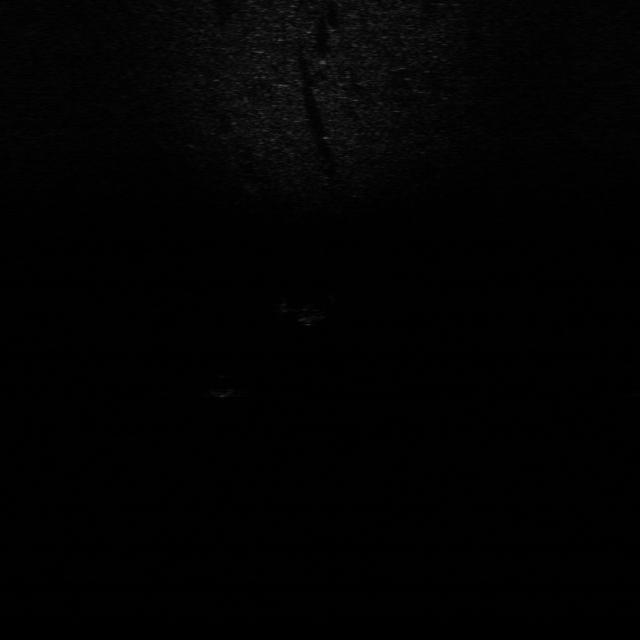ball: (200, 371, 240, 400)
human body: (280, 293, 340, 328)
